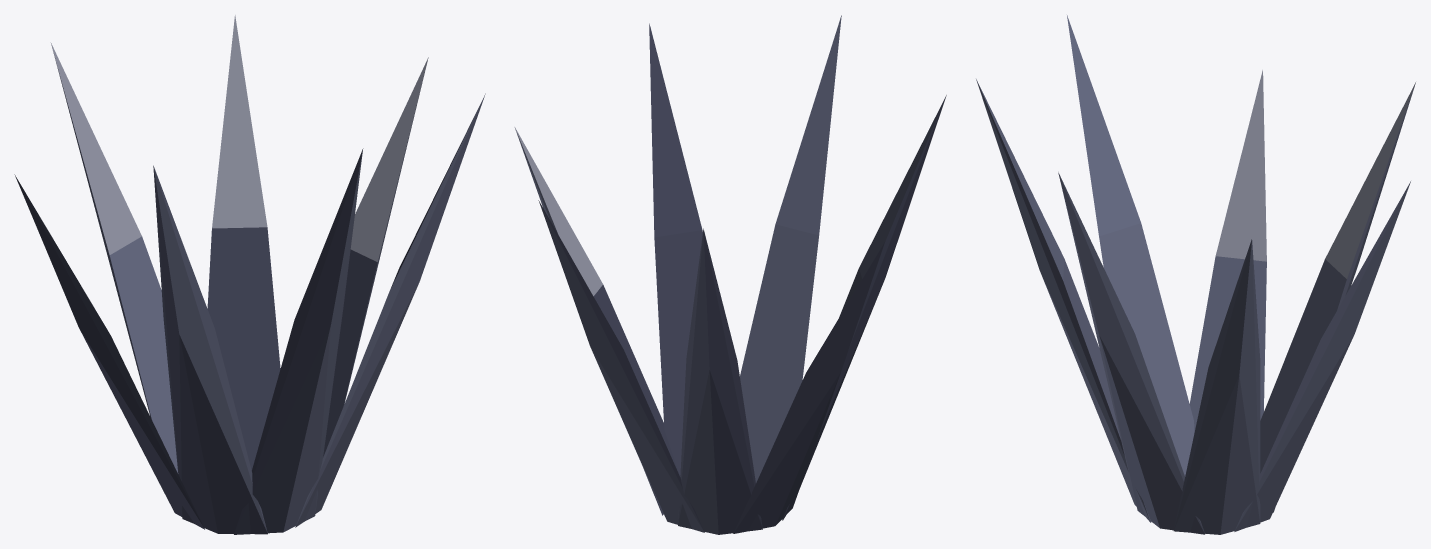
File: TW_VEG_GRASS_TUFT_B_LOD0.glb
3 renders of one model, left to right at view 1: azimuth 30°, elevation 25°; view 2: azimuth 150°, elevation 25°; view 3: azimuth 270°, elevation 25°, orthographic. The views are drawn at different scales.
Visible parts, largest first — view 1: TW_VEG_GRASS_TUFT_B_LOD0; view 2: TW_VEG_GRASS_TUFT_B_LOD0; view 3: TW_VEG_GRASS_TUFT_B_LOD0.
Part boxes in pixels (x1=…): TW_VEG_GRASS_TUFT_B_LOD0: x1=14, y1=15, x2=485, y2=534; TW_VEG_GRASS_TUFT_B_LOD0: x1=514, y1=15, x2=946, y2=534; TW_VEG_GRASS_TUFT_B_LOD0: x1=976, y1=15, x2=1415, y2=534.
Size of the model in its own units: 0.4581 by 0.4781 by 0.4491.
1 material, 1 textured.
